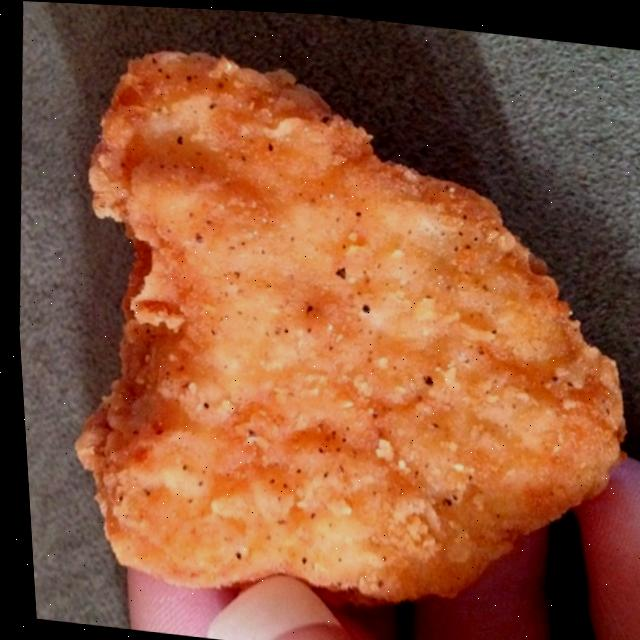鸡肉料理 含炸鸡: (8, 3, 640, 640)
